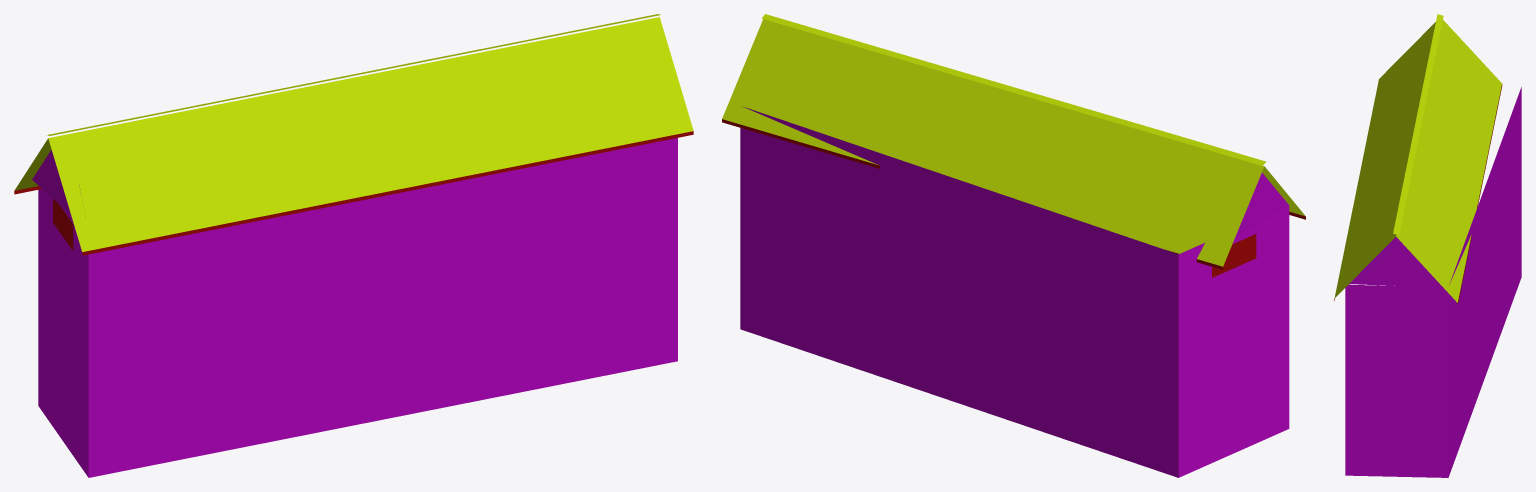
File: bgj_284.glb
The picture shows the model from 3 angles, left to right: view 1: azimuth 30°, elevation 25°; view 2: azimuth 150°, elevation 25°; view 3: azimuth 270°, elevation 25°; orthographic projection. The views are drawn at different scales.
Parts seen in each view (by area): view 1: bgj_284; view 2: bgj_284; view 3: bgj_284.
Boxes of the visible parts, box(x1,y1,x2,y2) form: bgj_284: box(14, 14, 693, 477); bgj_284: box(722, 14, 1305, 477); bgj_284: box(1334, 14, 1521, 477).
Bounding box in the file's own units: 20.59 × 10.6 × 7.26.
